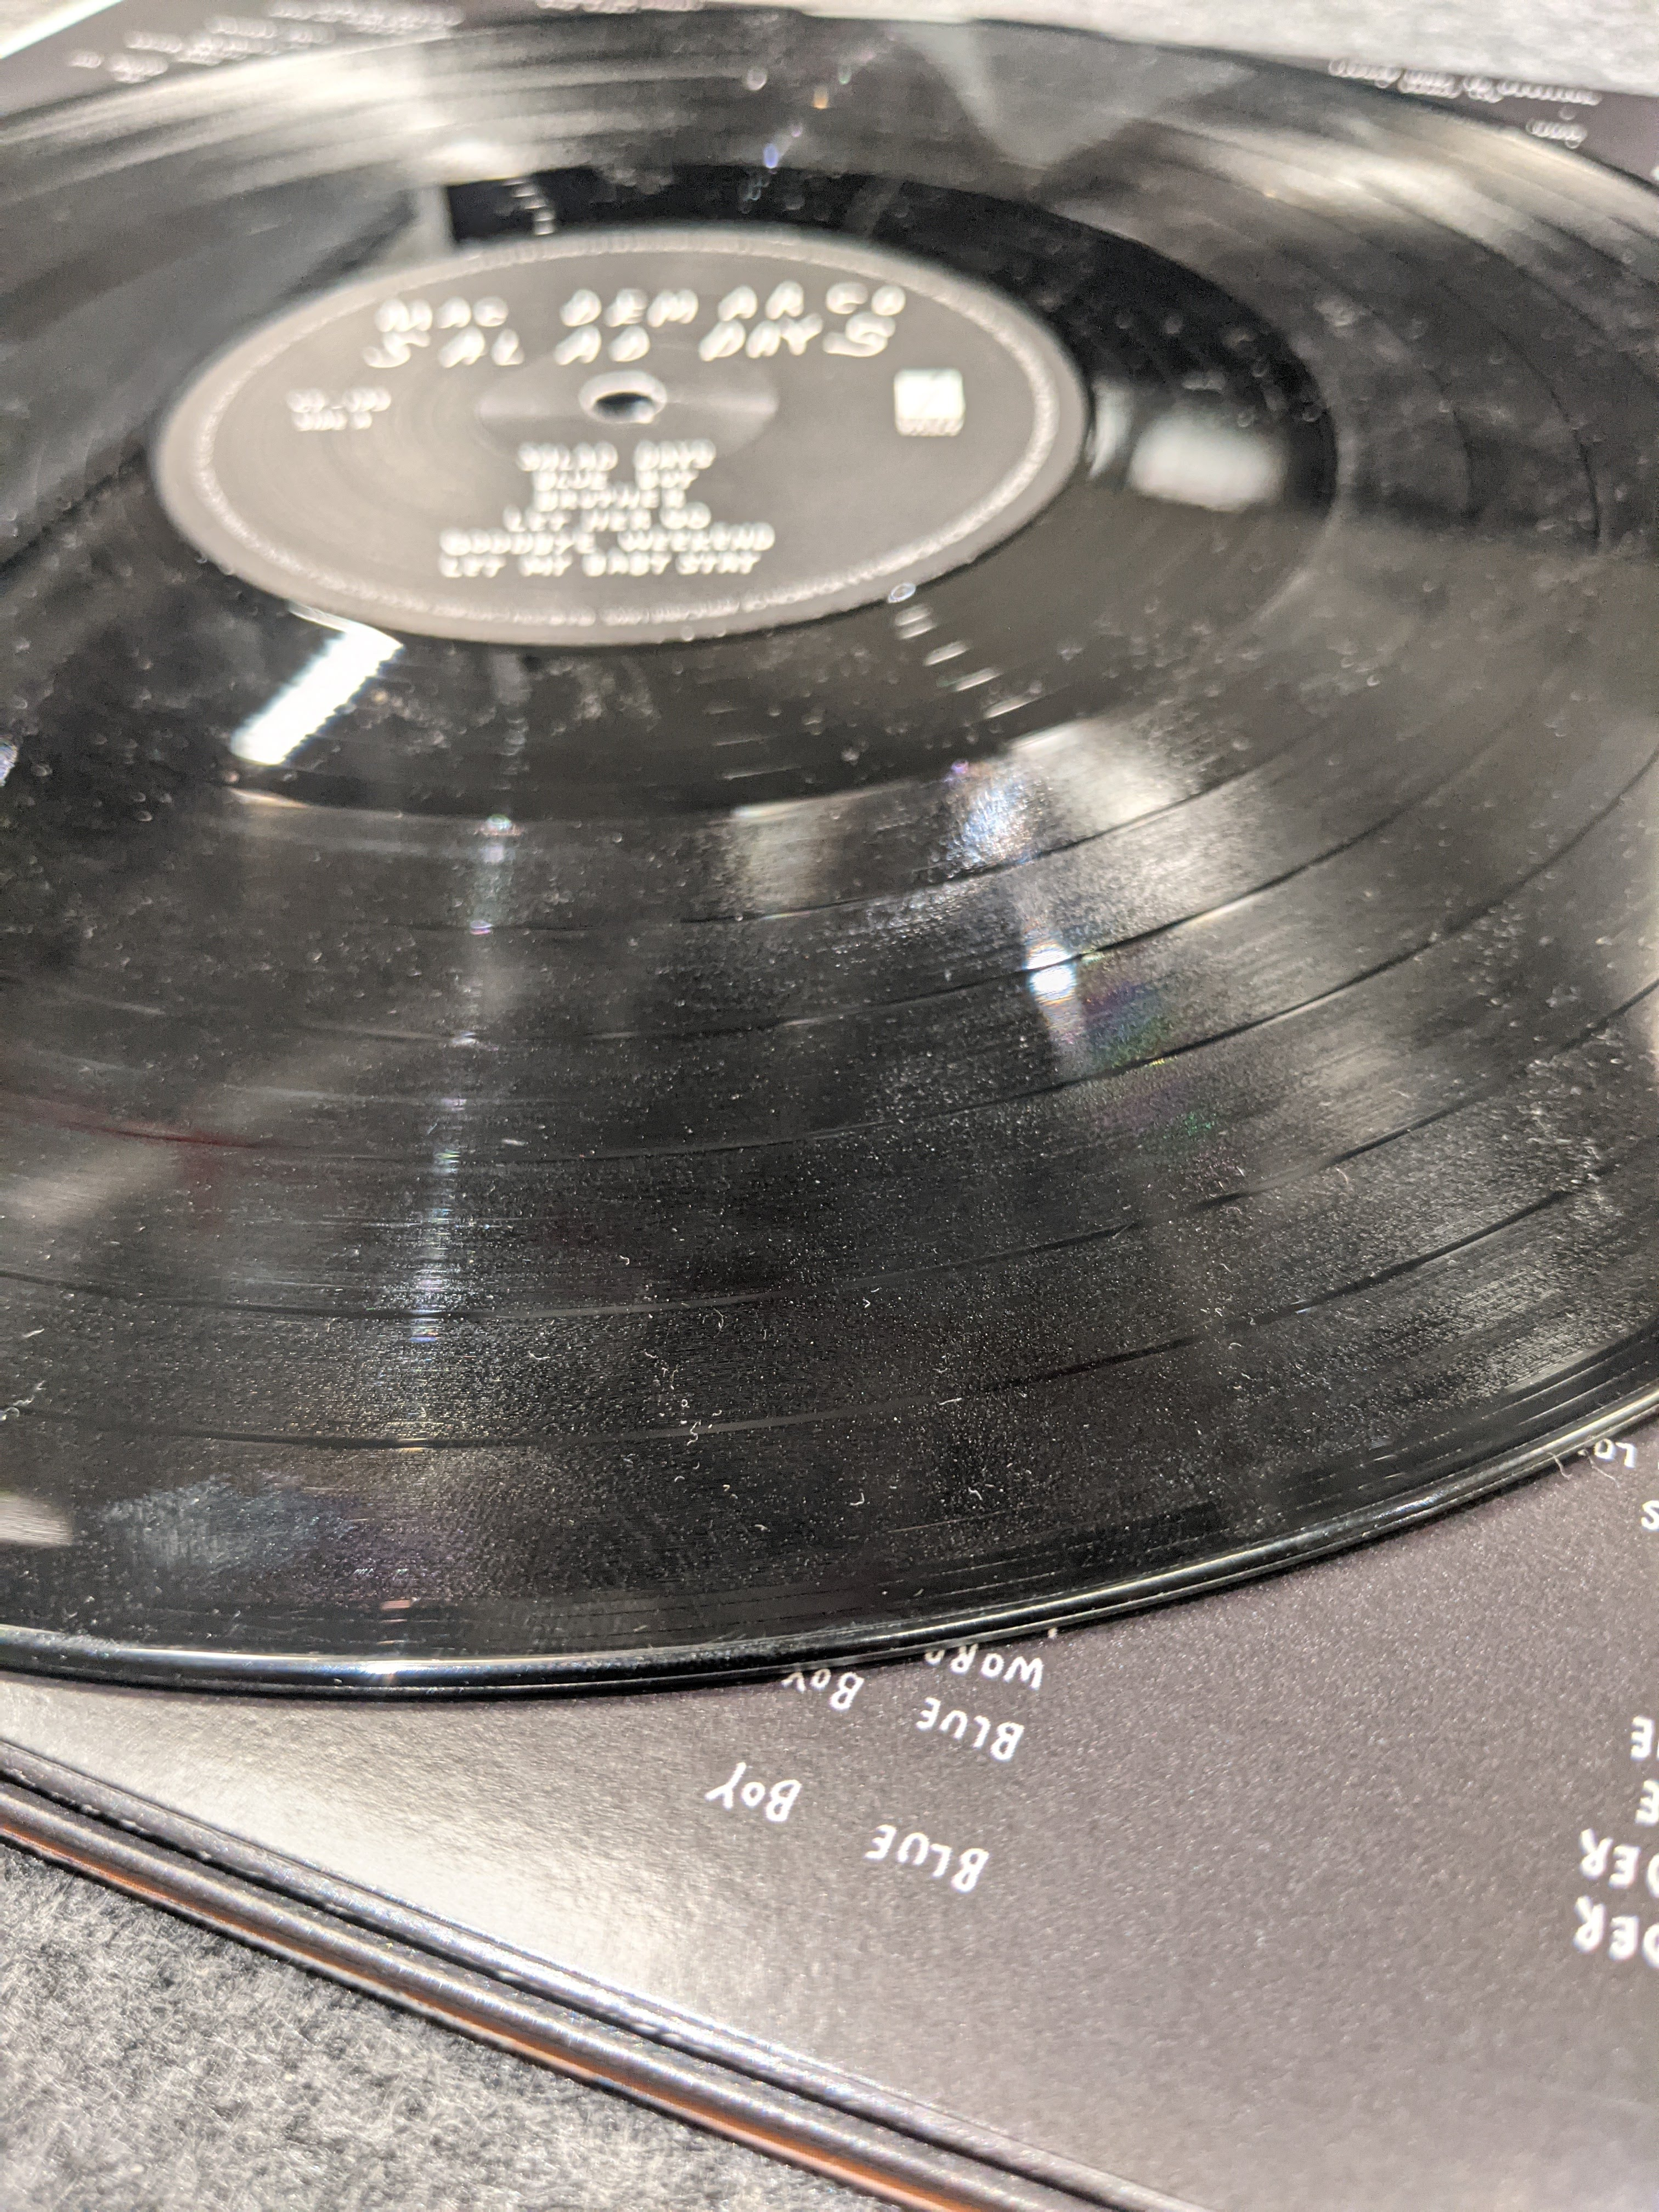song_edge: (235, 1075, 681, 1242), (307, 1376, 781, 1517), (734, 1237, 1133, 1324), (812, 942, 1208, 1022), (540, 880, 795, 960)
